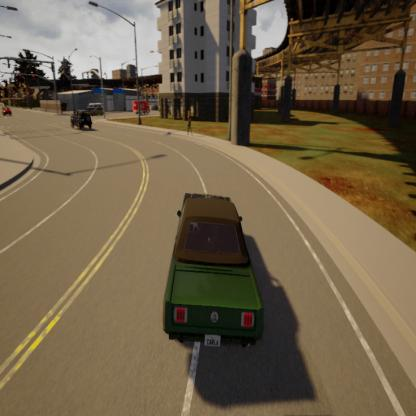Cars: (163, 194, 263, 348), (70, 109, 91, 131), (132, 98, 150, 115), (88, 102, 104, 114), (3, 107, 12, 117), (150, 102, 158, 112)
Pedestrian: (186, 109, 192, 136)
